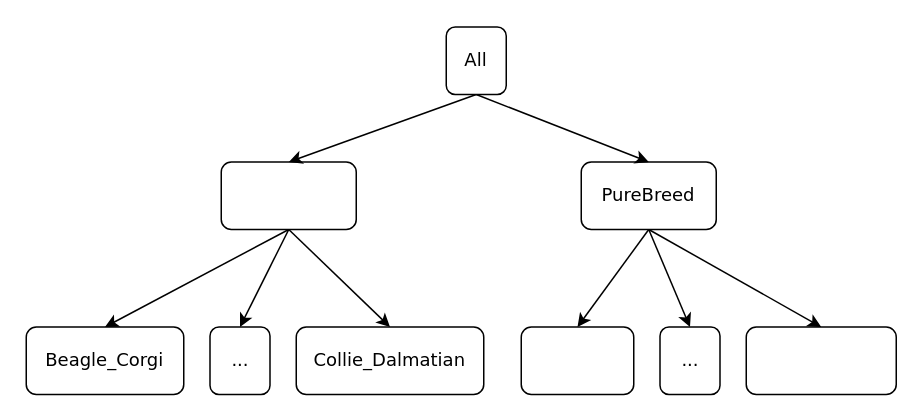
The diagram is 923 pixels wide and 420 high, and some of its shapes have lost their labels. The shapes that lost their labels are listed below. From the top down, each one's centre as x and y in pixels, then its label:
At point (288, 195): "MixBreed".
At point (577, 360): "Beagle".
At point (820, 360): "Dalmatian".
